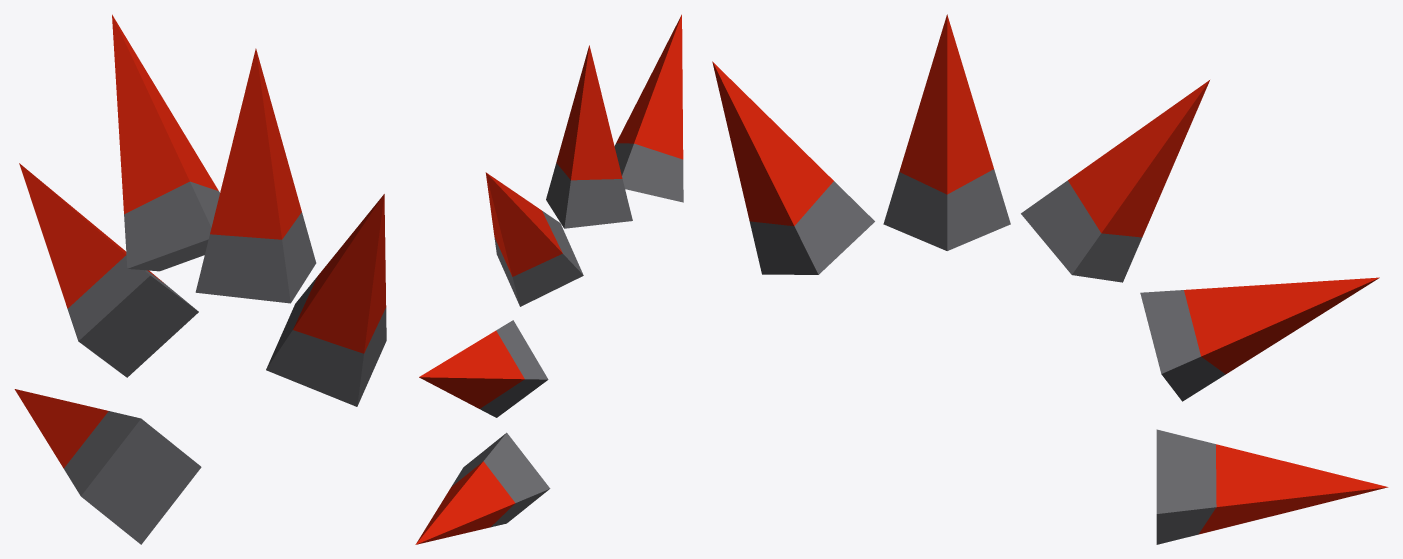
File: SM_Chr_Attach_Hair_04.fbx
3 views of the same model, side by side, from view 1: azimuth 30°, elevation 25°; view 2: azimuth 150°, elevation 25°; view 3: azimuth 270°, elevation 25° (orthographic). The views are drawn at different scales.
Parts seen in each view (by area): view 1: SM_Chr_Attach_Hair_04; view 2: SM_Chr_Attach_Hair_04; view 3: SM_Chr_Attach_Hair_04.
Boxes of the visible parts, x1,y1,x2,y2 form: SM_Chr_Attach_Hair_04: [14, 14, 386, 544]; SM_Chr_Attach_Hair_04: [415, 14, 683, 544]; SM_Chr_Attach_Hair_04: [712, 14, 1388, 544].
Bounding box in the file's own units: 6.32 × 29.03 × 33.53.
